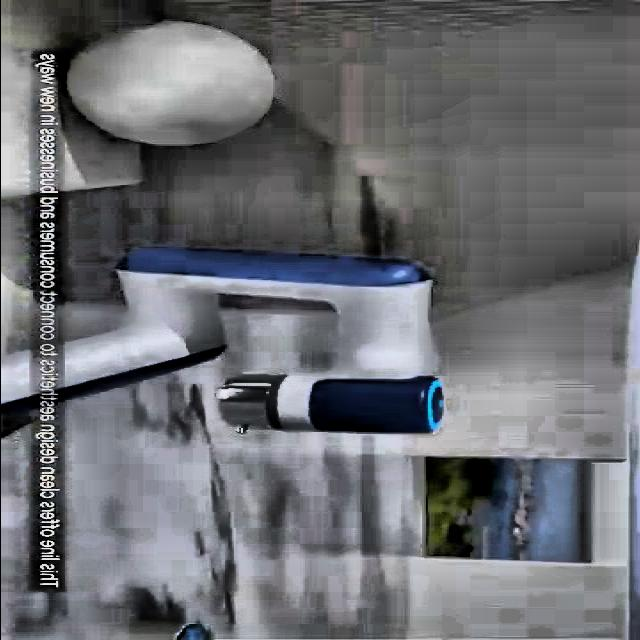robot: (4, 246, 446, 437)
